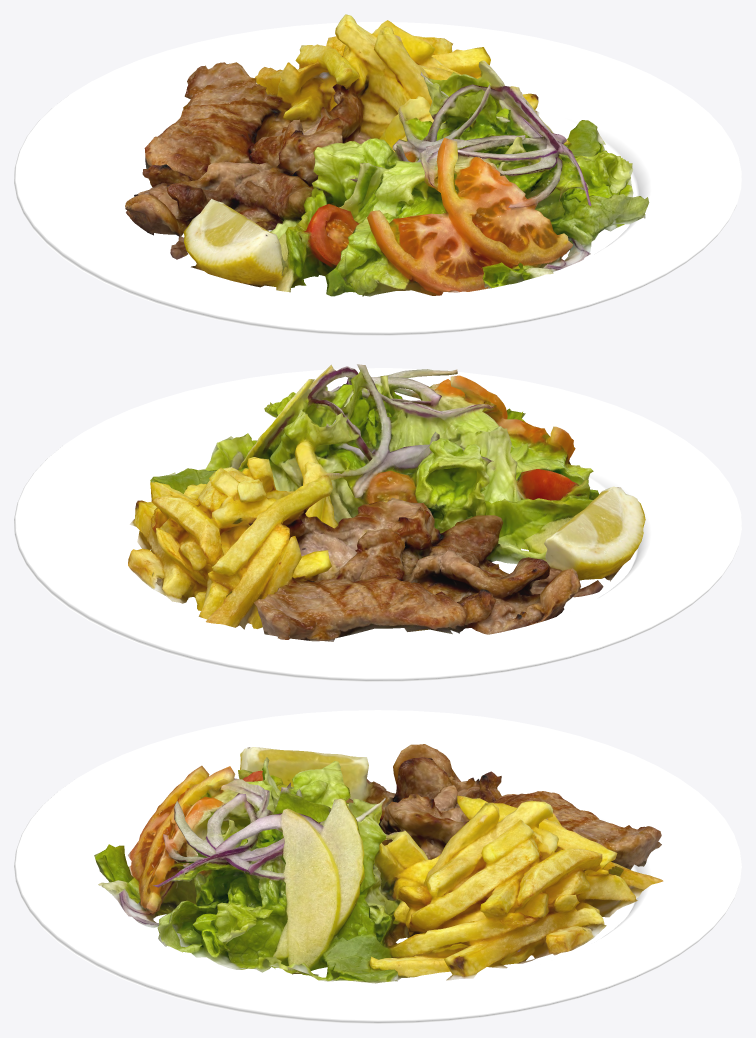
Rendered from PlumasDePorco.glb.
The picture shows the model from 3 angles, top to bottom: view 1: azimuth 30°, elevation 25°; view 2: azimuth 150°, elevation 25°; view 3: azimuth 270°, elevation 25°; orthographic projection.
Parts seen in each view (by area): view 1: Mesh_0, Circle; view 2: Mesh_0, Circle; view 3: Mesh_0, Circle.
Part boxes in pixels (x1,y1,x2,y2): Mesh_0: (125,14,649,296); Circle: (14,22,741,335); Mesh_0: (128,364,645,641); Circle: (14,368,741,681); Mesh_0: (94,744,663,983); Circle: (14,710,741,1023).
Bounding box in the file's own units: 0.3656 × 0.0815 × 0.3656.
Materials: 2 (1 with a texture image).
